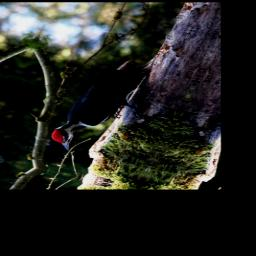Woodpecker: (44, 45, 175, 162)
